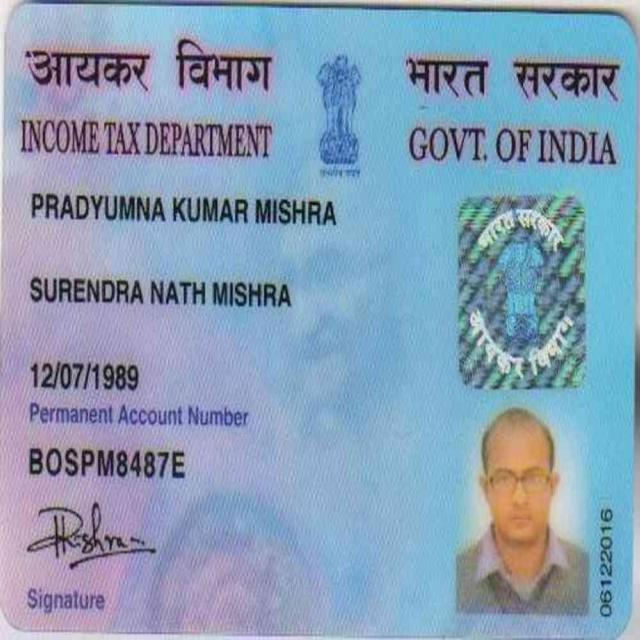pan_card: (8, 12, 624, 624)
